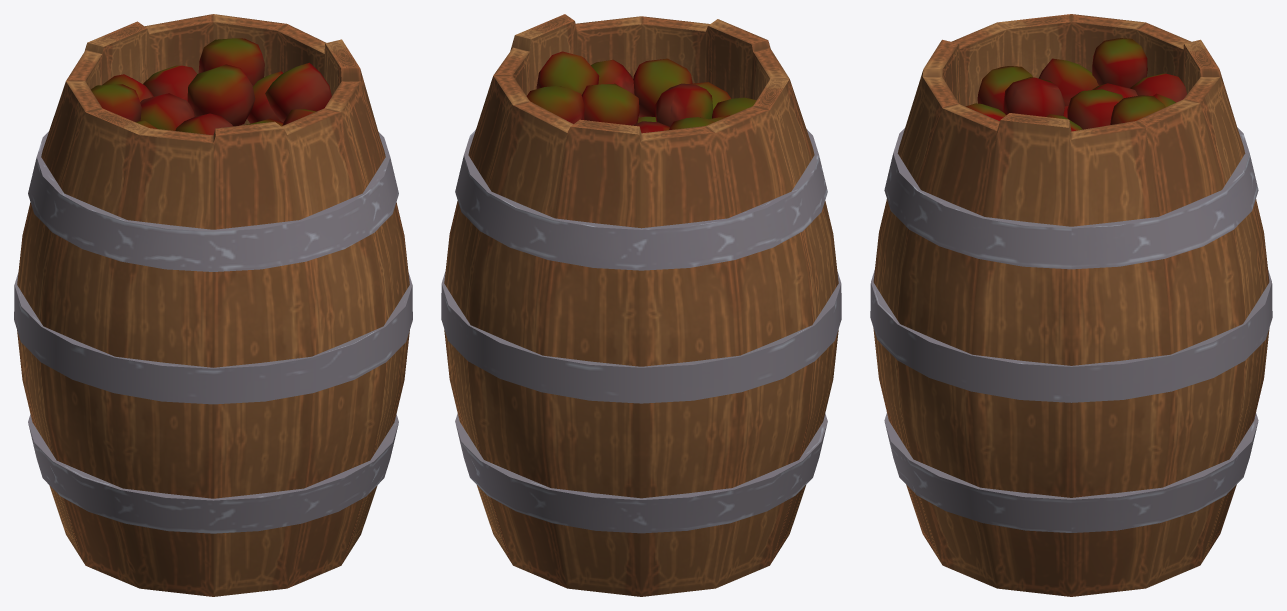
The model's file is prop_barrel_apples.glb.
3 views of the same model, side by side, from view 1: azimuth 30°, elevation 25°; view 2: azimuth 150°, elevation 25°; view 3: azimuth 270°, elevation 25° (orthographic).
Visible parts, largest first — view 1: Barrel_Apples; view 2: Barrel_Apples; view 3: Barrel_Apples.
Part boxes in pixels (x1,y1,x2,y2): Barrel_Apples: [14, 14, 412, 596]; Barrel_Apples: [441, 14, 841, 596]; Barrel_Apples: [870, 14, 1272, 596].
Bounding box in the file's own units: 0.698 × 0.898 × 0.698.
3 materials, 3 textured.
